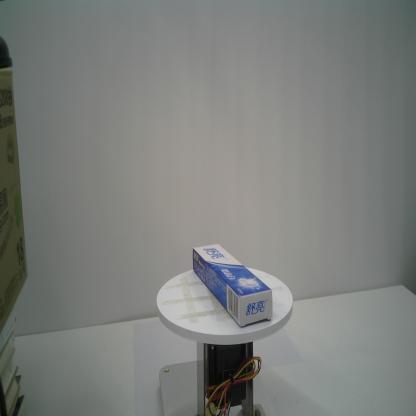Personal Hygiene: (192, 243, 273, 326)
